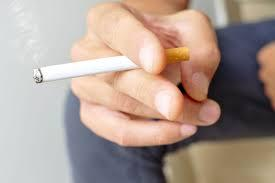smoke: (33, 47, 190, 84)
